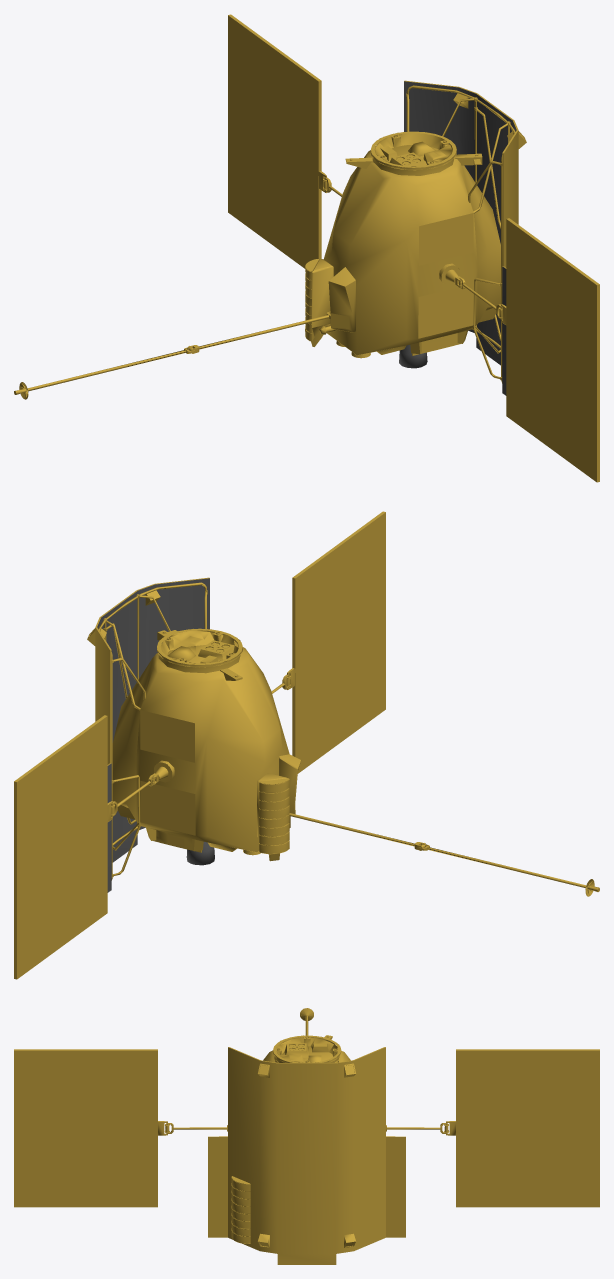
Rendered from SM_MER_Intro_Satellite.fbx.
3 renders of one model, top to bottom at view 1: azimuth 30°, elevation 25°; view 2: azimuth 150°, elevation 25°; view 3: azimuth 270°, elevation 25°, orthographic. The views are drawn at different scales.
Visible parts, largest first — view 1: Object_2; view 2: Object_2; view 3: Object_2.
Part boxes in pixels (x1=…): Object_2: x1=14, y1=14, x2=599, y2=482; Object_2: x1=14, y1=511, x2=599, y2=979; Object_2: x1=14, y1=1008, x2=599, y2=1264.
Size of the model in its own units: 84.42 by 42.23 by 111.
